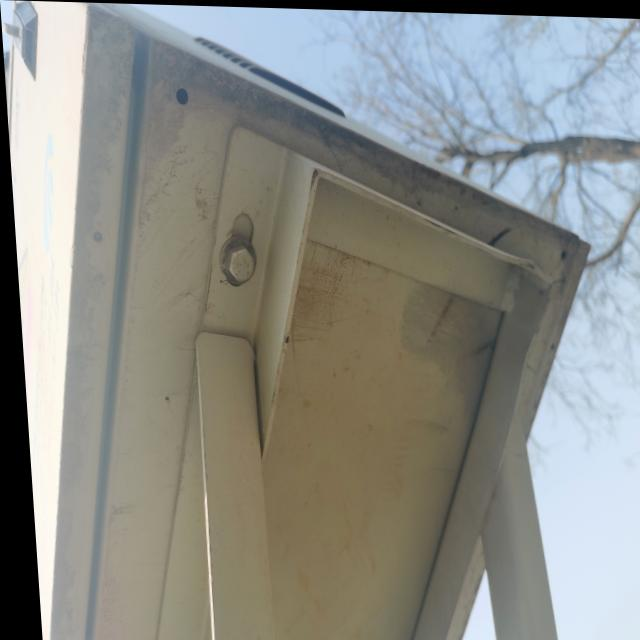Regular bolt: (223, 247, 254, 284)
